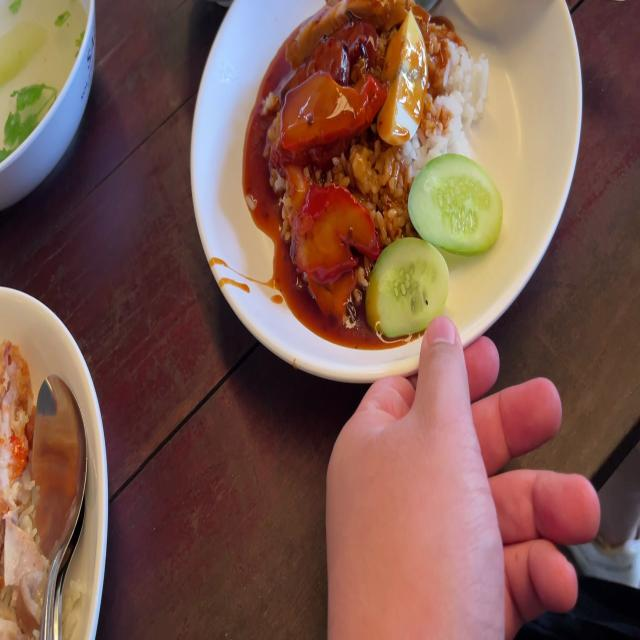boiled_chicken: (0, 516, 49, 639)
boiled_egg: (382, 15, 420, 146)
chainese_sausage: (301, 26, 379, 75)
chicken_rice: (0, 346, 57, 640)
crispy_pork: (308, 0, 417, 32)
cucumber: (406, 152, 500, 249), (367, 237, 448, 341)
fried_chicken: (0, 330, 31, 510)
red_pork: (283, 179, 373, 314), (276, 67, 379, 155)
red_pork_and_crispy_pork: (259, 0, 504, 340)
